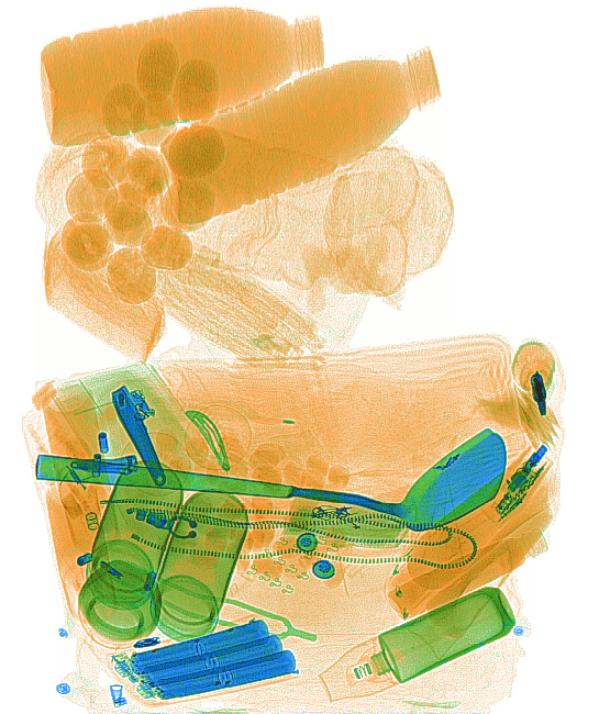battery: (106, 612, 298, 701)
plasticBottleWithaNozzle: (41, 383, 120, 555)
